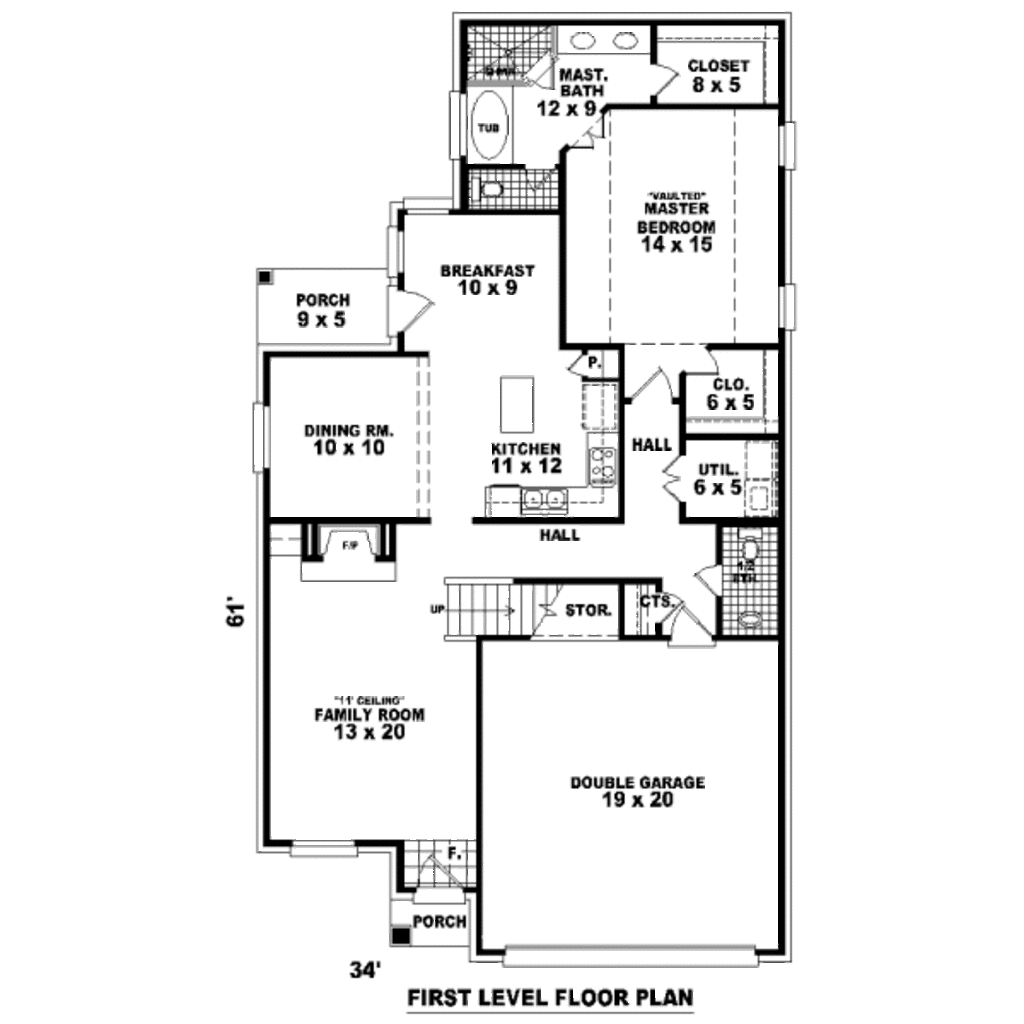door: (625, 363, 690, 425), (666, 601, 723, 657), (406, 858, 465, 906), (566, 112, 619, 162), (385, 289, 434, 336), (639, 58, 684, 108), (566, 338, 611, 387), (680, 341, 728, 384), (690, 562, 726, 605), (660, 454, 692, 501)
large_sink: (463, 174, 517, 209), (734, 527, 766, 565)
small_sink: (563, 22, 655, 52), (733, 611, 769, 636)
stairs: (438, 558, 617, 636)
tub: (466, 89, 522, 165)
twin_sink: (519, 471, 576, 520)
window: (438, 81, 473, 165), (249, 398, 282, 481), (282, 830, 373, 857), (769, 112, 803, 184), (769, 285, 803, 349), (393, 201, 453, 219)
